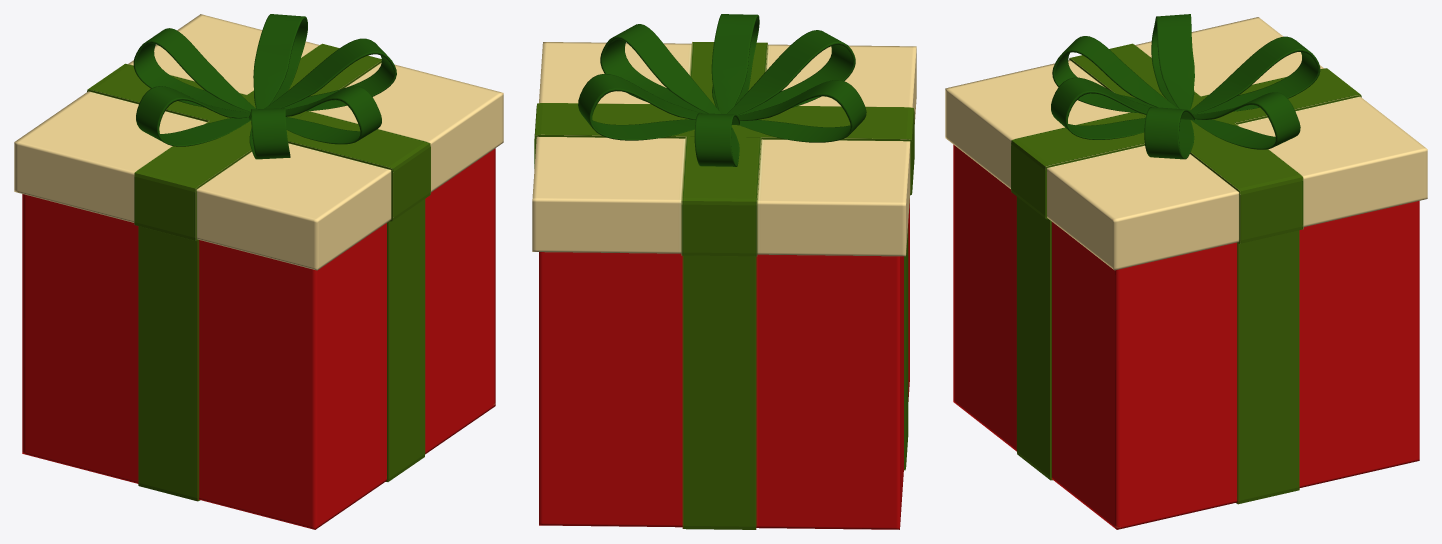
The model's file is smallpresent.glb.
3 views of the same model, side by side, from view 1: azimuth 30°, elevation 25°; view 2: azimuth 150°, elevation 25°; view 3: azimuth 270°, elevation 25° (orthographic). The views are drawn at different scales.
Visible parts, largest first — view 1: Bow.001; view 2: Bow.001; view 3: Bow.001.
Boxes of the visible parts, bbox=[...] form: Bow.001: bbox=[14, 14, 503, 529]; Bow.001: bbox=[532, 14, 916, 529]; Bow.001: bbox=[945, 14, 1427, 529].
Bounding box in the file's own units: 1.73 × 1.47 × 1.73.
1 material, 1 textured.
